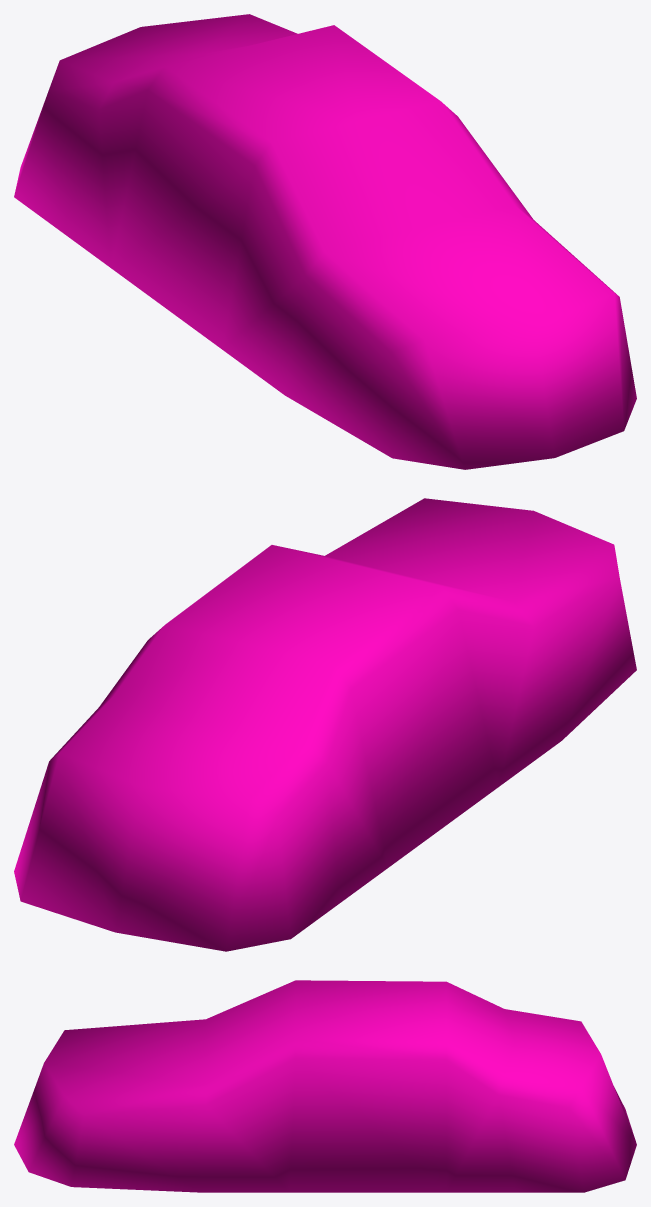
File: crushed_car_collision.FBX
3 renders of one model, top to bottom at view 1: azimuth 30°, elevation 25°; view 2: azimuth 150°, elevation 25°; view 3: azimuth 270°, elevation 25°, orthographic. The views are drawn at different scales.
Visible parts, largest first — view 1: collision; view 2: collision; view 3: collision.
Boxes of the visible parts, x1,y1,x2,y2 form: collision: (14,14,636,469); collision: (14,498,636,951); collision: (14,980,636,1192).
Bounding box in the file's own units: 2.03 × 1.34 × 5.58.
